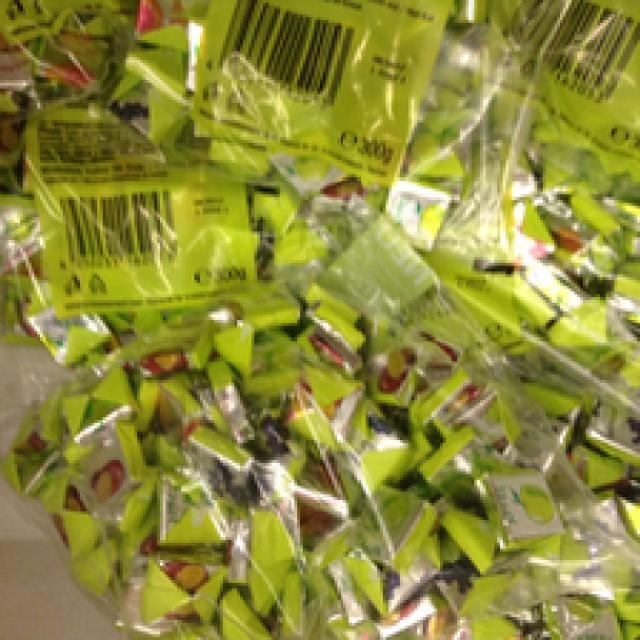groceries: (26, 277, 568, 629), (148, 0, 632, 217)
